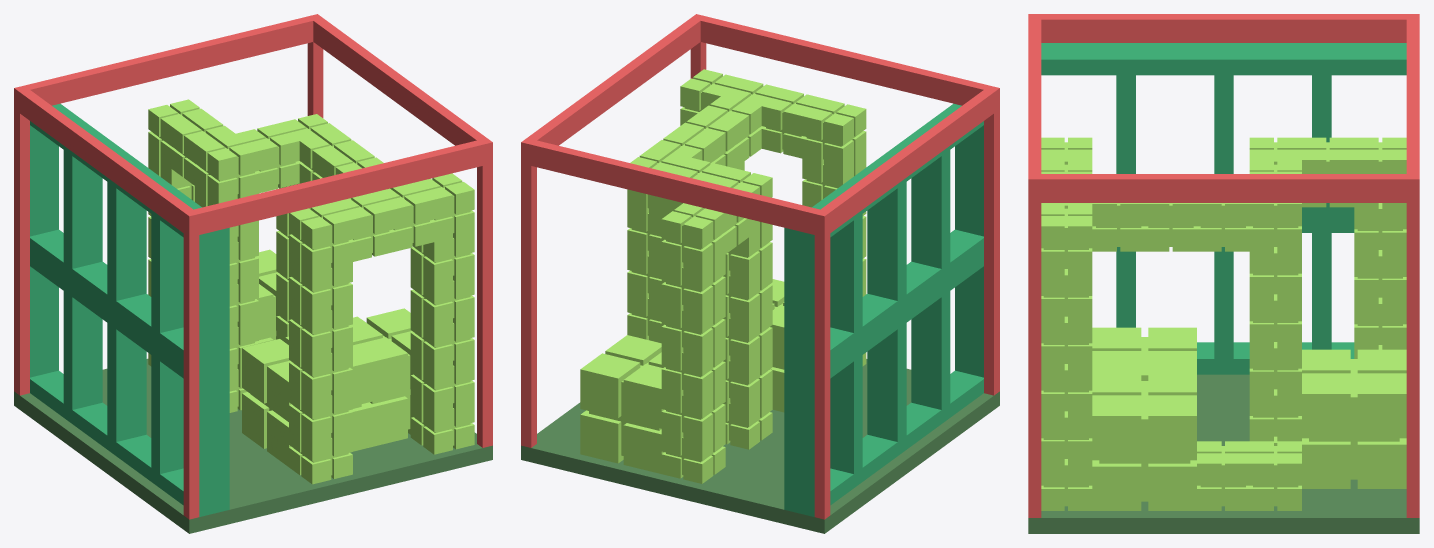
3 views of the same model, side by side, from view 1: azimuth 30°, elevation 25°; view 2: azimuth 150°, elevation 25°; view 3: azimuth 270°, elevation 25° (orthographic). The views are drawn at different scales.
Parts seen in each view (by area): view 1: 物件_51, 物件_46, 物件_50, 物件_58, 物件_57, 物件_41, 物件_10, 物件_45, 物件_44, 物件_47, 物件_48, 物件_56 (+36 smaller); view 2: 物件_51, 物件_17, 物件_43, 物件_49, 物件_57, 物件_58, 物件_44, 物件_45, 物件_48, 物件_47, 物件_56, 物件_55 (+33 smaller); view 3: 物件_51, 物件_10, 物件_17, 物件_59, 物件_56, 物件_47, 物件_48, 物件_52, 物件_53, 物件_41, 物件_49, 物件_50 (+31 smaller).
Boxes of the visible parts, x1,y1,x2,y2 form: 物件_51: (14, 358, 492, 533); 物件_46: (155, 344, 229, 516); 物件_50: (155, 195, 229, 375); 物件_58: (184, 139, 492, 236); 物件_57: (14, 14, 321, 112); 物件_41: (242, 336, 369, 466); 物件_10: (350, 308, 413, 447); 物件_45: (112, 312, 155, 484); 物件_44: (68, 280, 111, 452); 物件_47: (112, 163, 185, 343); 物件_48: (68, 131, 141, 311); 物件_56: (14, 88, 199, 236); 物件_51: (521, 359, 999, 533); 物件_17: (580, 335, 663, 473); 物件_43: (784, 344, 858, 516); 物件_49: (784, 195, 858, 375); 物件_57: (521, 138, 829, 235); 物件_58: (691, 14, 998, 105); 物件_44: (858, 312, 901, 484); 物件_45: (902, 280, 945, 452); 物件_48: (828, 163, 901, 343); 物件_47: (872, 131, 945, 311); 物件_56: (815, 88, 999, 236); 物件_55: (814, 210, 830, 519); 物件_51: (1028, 374, 1419, 533); 物件_10: (1092, 371, 1196, 510); 物件_17: (1302, 349, 1406, 488); 物件_59: (1028, 174, 1418, 202); 物件_56: (1028, 14, 1418, 42); 物件_47: (1126, 43, 1223, 173); 物件_48: (1224, 43, 1321, 217); 物件_52: (1028, 174, 1041, 517); 物件_53: (1406, 174, 1419, 517); 物件_41: (1092, 327, 1196, 380); 物件_49: (1321, 43, 1406, 217); 物件_50: (1041, 43, 1126, 173).
Size of the model in its own units: 48 by 48 by 48.
